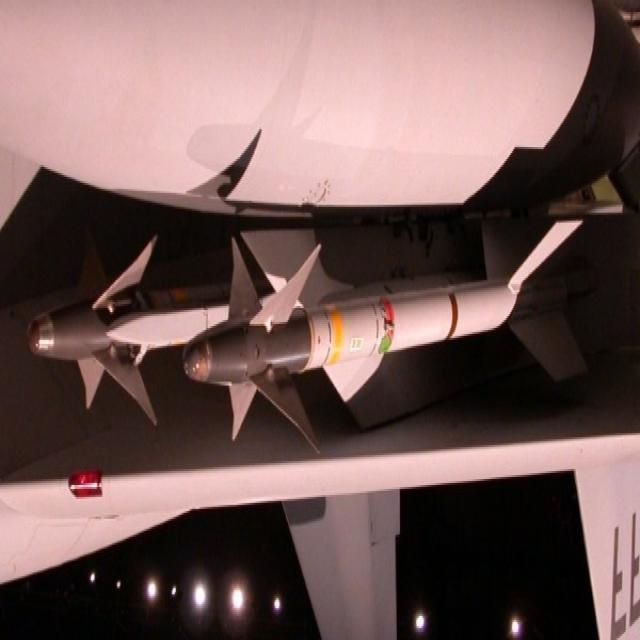missile: (180, 214, 573, 440), (26, 227, 210, 417)
